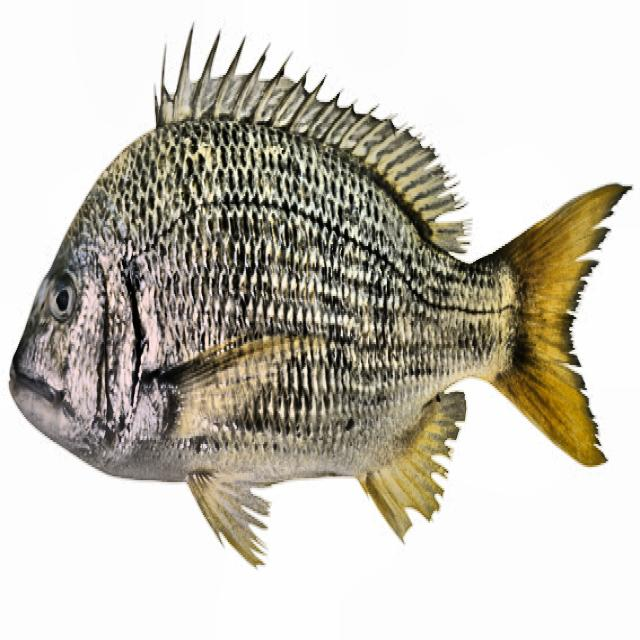fish: (8, 21, 634, 570)
